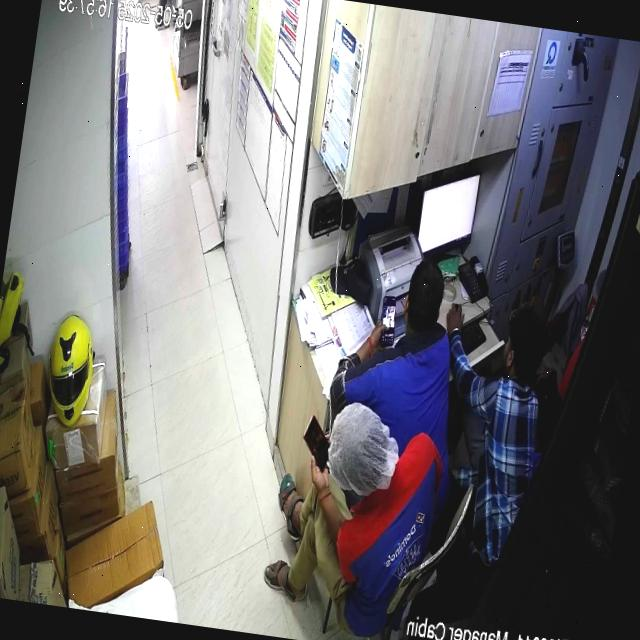helmet: (49, 313, 93, 429)
no_helmet: (501, 308, 548, 382), (404, 259, 445, 337)
